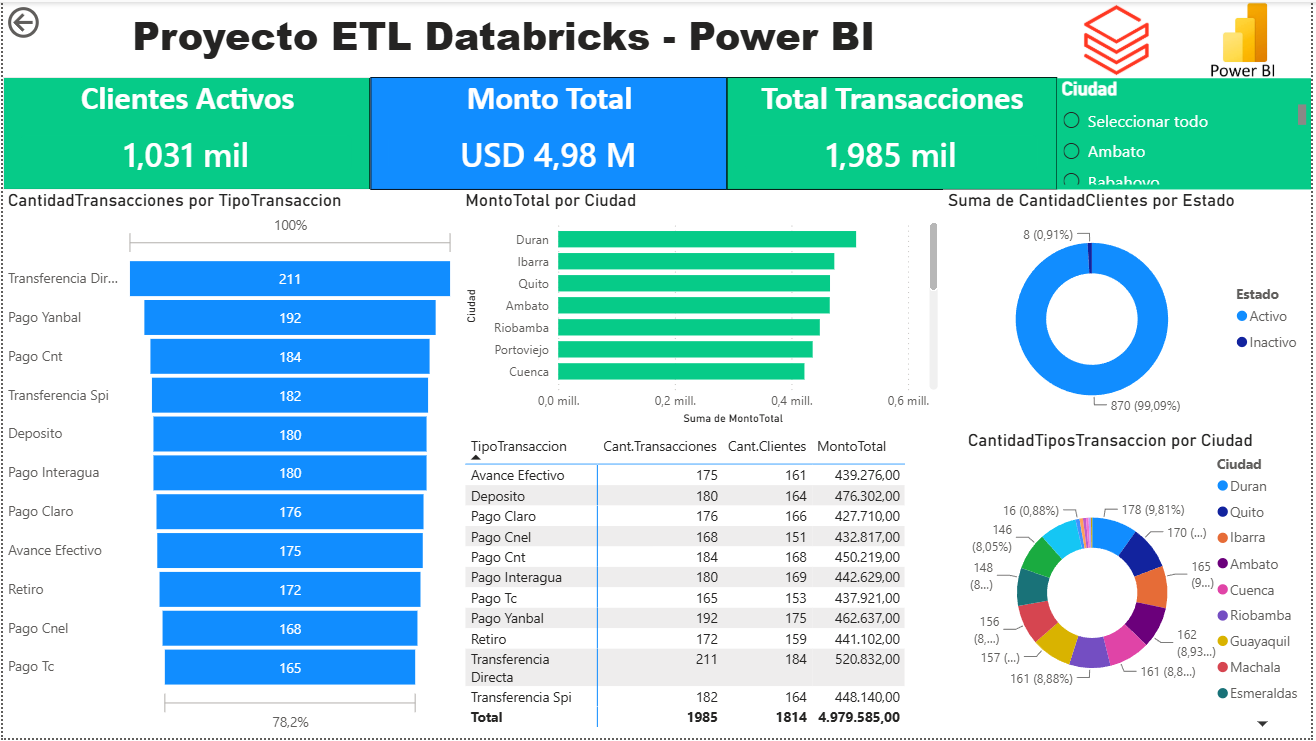

What the dashboard file says about the page in this screenshot:
{"tool":"powerbi","page":{"name":"Página 1","canvas":[1280,720],"ordinal":0},"visuals":[{"type":"cardVisual","title":"Clientes Activos","fields":{"Data":["Sum(kpi_ejecutivo.ClientesActivos)"]},"box":[0,73.4,359.5,110.1],"z":0},{"type":"clusteredBarChart","title":"MontoTotal por Ciudad","fields":{"Category":["resumen_ciudad.Ciudad"],"Y":["Sum(resumen_ciudad.MontoTotal)"]},"box":[447.6,183.4,472,234.8],"z":1000},{"type":"donutChart","title":"CantidadTiposTransaccion por Ciudad","fields":{"Category":["resumen_cliente.Ciudad"],"Y":["Sum(resumen_cliente.CantidadTiposTransaccion)"]},"box":[939.1,418.2,341.2,300.8],"z":2000},{"type":"funnel","title":"CantidadTransacciones por TipoTransaccion","fields":{"Category":["resumen_tipo_transaccion.TipoTransaccion"],"Y":["Sum(resumen_tipo_transaccion.CantidadTransacciones)"]},"box":[0,183.4,447.6,535.6],"z":3000},{"type":"cardVisual","title":"Monto Total","fields":{"Data":["kpi_ejecutivo.Monto Total USD"]},"box":[359.5,73.4,348.5,110.1],"z":4000},{"type":"cardVisual","title":"Total Transacciones","fields":{"Data":["Sum(kpi_ejecutivo.TotalTransacciones)"]},"box":[708,73.4,322.8,110.1],"z":5000},{"type":"pivotTable","fields":{"Rows":["resumen_tipo_transaccion.TipoTransaccion"],"Values":["Sum(resumen_tipo_transaccion.CantidadTransacciones)","Sum(resumen_tipo_transaccion.CantidadClientes)","Sum(resumen_tipo_transaccion.MontoTotal)"]},"box":[447.6,418.2,489.1,302],"z":6000},{"type":"textbox","box":[0,1.4,979.8,71.4],"z":7000},{"type":"image","box":[1030.8,1.2,117.4,72.1],"z":8000},{"type":"image","box":[1148.2,0,132.1,73.4],"z":9000},{"type":"donutChart","fields":{"Category":["resumen_estado.Estado"],"Y":["Sum(resumen_estado.CantidadClientes)"]},"box":[919.6,183.4,360.7,234.8],"z":10000},{"type":"listSlicer","fields":{"Values":["resumen_ciudad.Ciudad"]},"box":[1030.8,74.6,249.5,108.8],"z":10001},{"type":"actionButton","box":[0,0,100,40],"z":10002}]}

Visuals, with their boxes in screenshot pixels (x1, y1, x2, y2), scaled from the page's 1280x720 canvas onto the 1316x741 screenshot:
"Clientes Activos" cardVisual: 0:76:370:189
"MontoTotal por Ciudad" clusteredBarChart: 460:189:945:430
"CantidadTiposTransaccion por Ciudad" donutChart: 966:430:1315:740
"CantidadTransacciones por TipoTransaccion" funnel: 0:189:460:740
"Monto Total" cardVisual: 370:76:728:189
"Total Transacciones" cardVisual: 728:76:1060:189
pivotTable - resumen_tipo_transaccion.TipoTransaccion x Sum(resumen_tipo_transaccion.CantidadTransacciones): 460:430:963:740
textbox: 0:1:1007:75
image: 1060:1:1180:75
image: 1180:0:1315:76
donutChart - resumen_estado.Estado x Sum(resumen_estado.CantidadClientes): 945:189:1315:430
listSlicer - resumen_ciudad.Ciudad: 1060:77:1315:189
actionButton: 0:0:103:41
